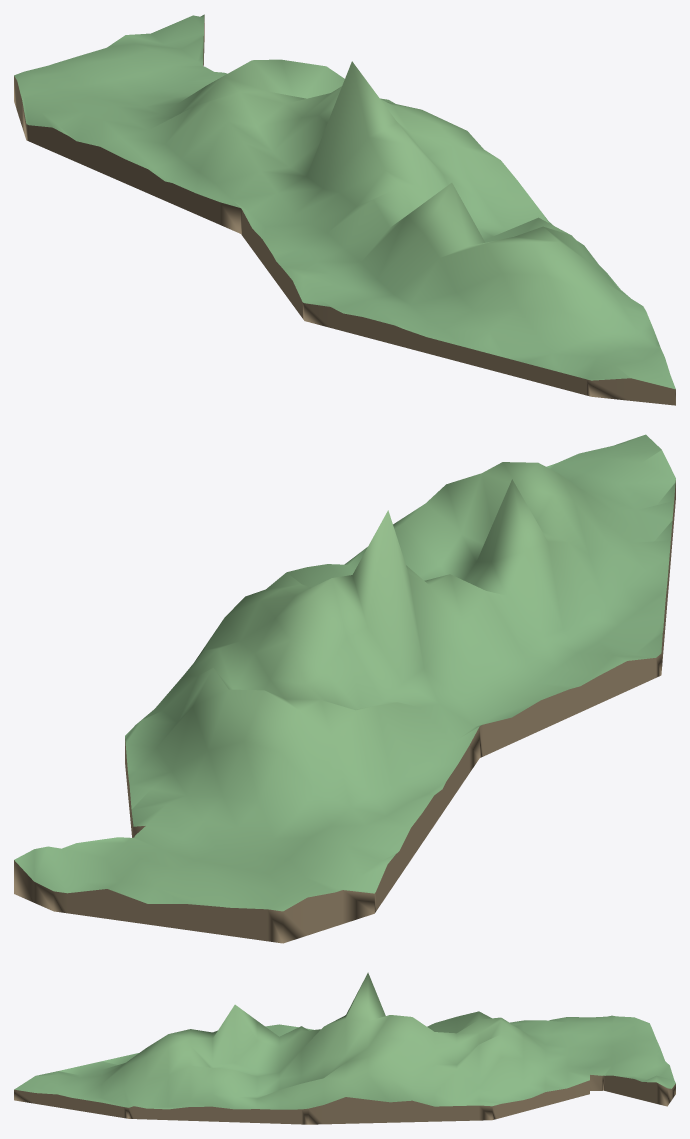
Rendered from BHR.glb.
The picture shows the model from 3 angles, top to bottom: view 1: azimuth 30°, elevation 25°; view 2: azimuth 150°, elevation 25°; view 3: azimuth 270°, elevation 25°; orthographic projection. The views are drawn at different scales.
Parts seen in each view (by area): view 1: BHR; view 2: BHR; view 3: BHR.
Boxes of the visible parts, left/top/right/bottom form: BHR: left=14, top=14, right=675, bottom=405; BHR: left=14, top=434, right=675, bottom=943; BHR: left=14, top=972, right=675, bottom=1124.
Size of the model in its own units: 0.6255 by 0.338 by 1.86.
